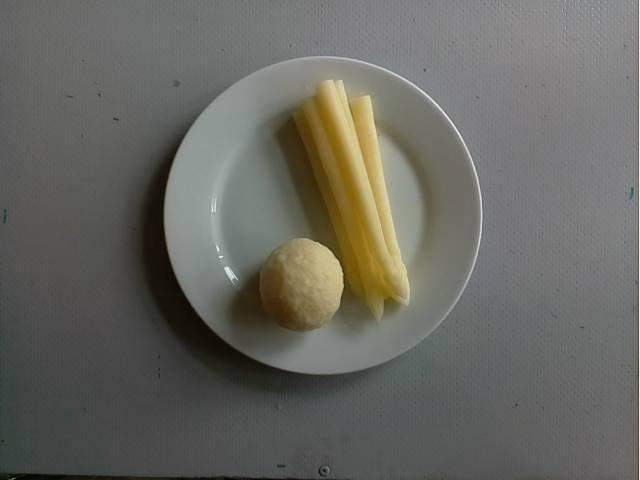Asparagus + dumpling: (259, 77, 411, 331)
